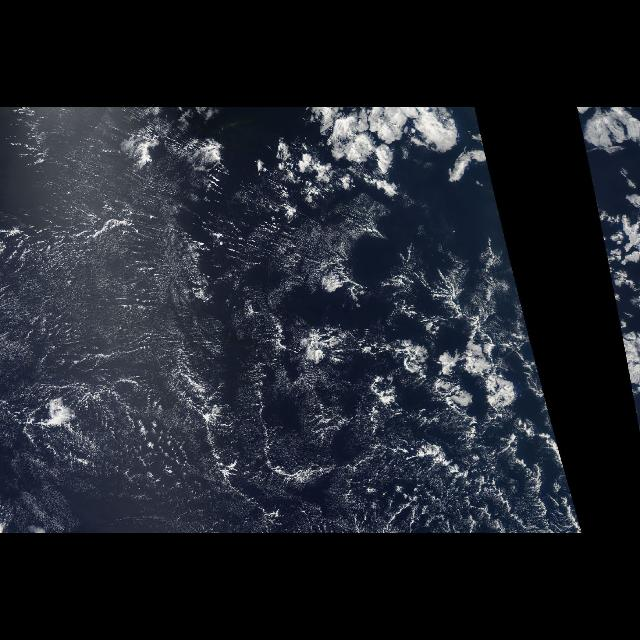Flower: (279, 111, 556, 439)
Gravel: (252, 260, 514, 498)
Sugar: (0, 107, 362, 533)
